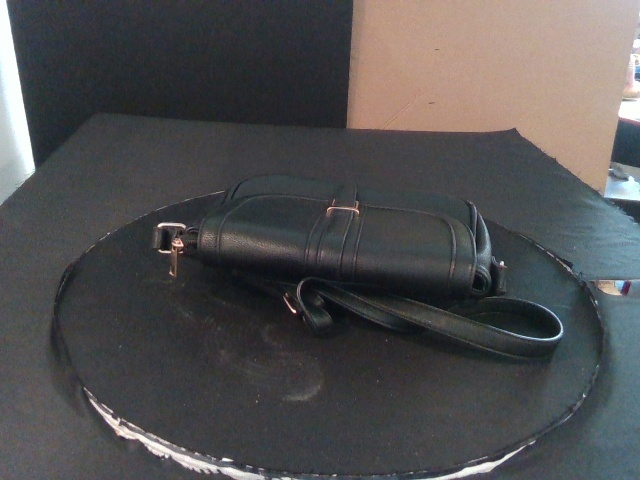bag: (189, 174, 496, 294)
